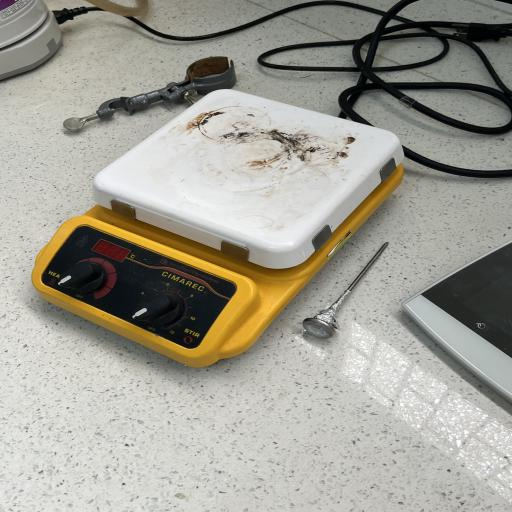Plancha_Agitacion_Cimarec: (10, 86, 413, 387)
